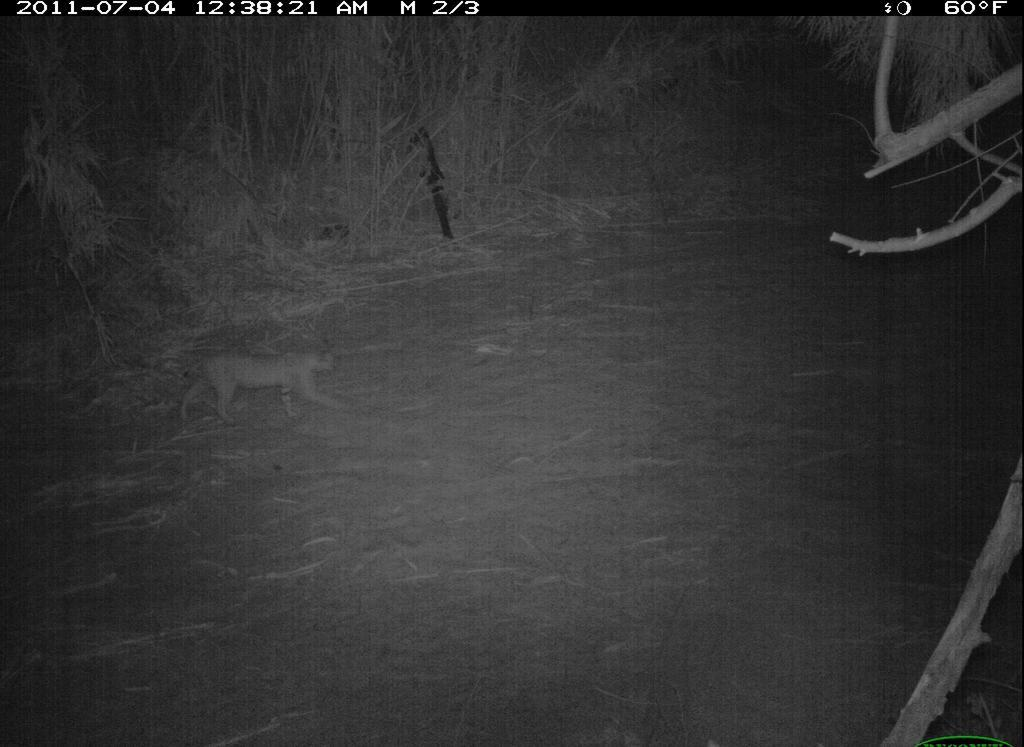bobcat: (177, 338, 358, 429)
